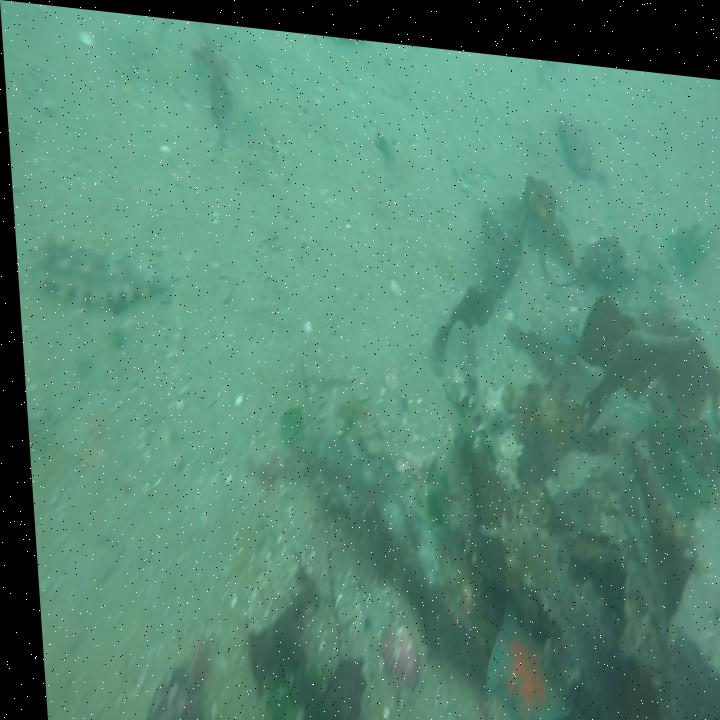holothurian: (27, 227, 167, 317), (445, 355, 521, 478)
starfish: (472, 567, 568, 720)
